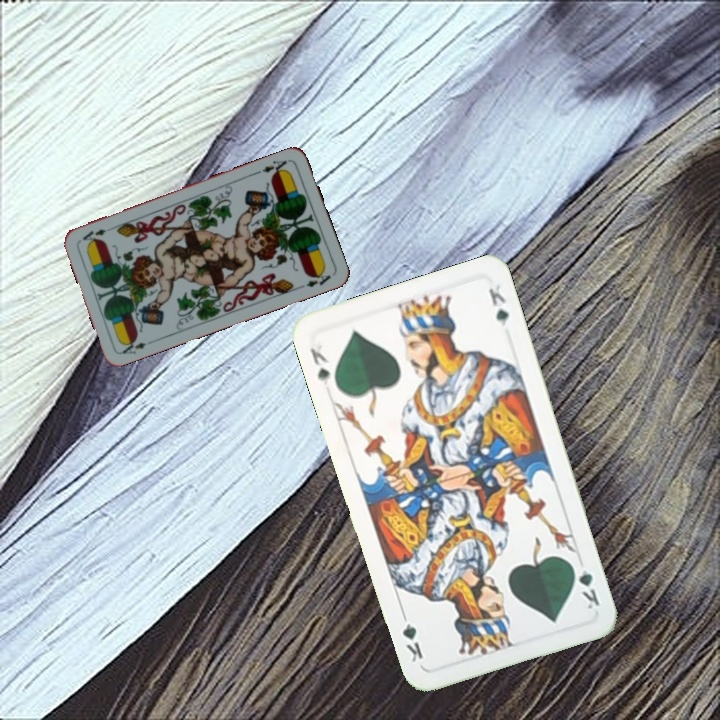EA: (253, 156, 289, 178), (118, 335, 148, 357)
GK: (567, 558, 602, 612), (306, 340, 333, 388)
